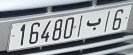0: (63, 16, 75, 41)
1: (18, 23, 26, 48)
4: (40, 18, 51, 43)
6: (111, 7, 125, 31), (28, 20, 40, 46)
8: (52, 16, 63, 42)
b: (85, 15, 103, 32)
